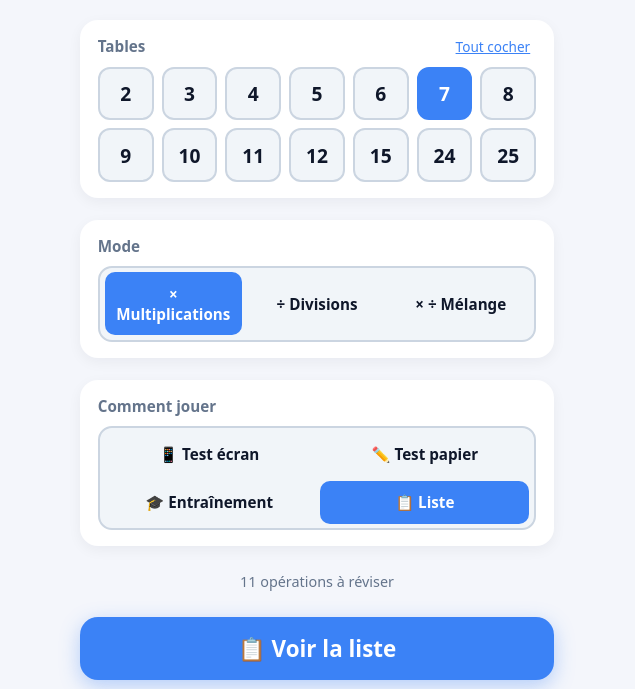
Test: App — exercise list flow › starting in list mode shows the list and records no session
(page scrolled)
Click the button "📋 Voir la liste" at (317, 648), box [80,616,554,680]
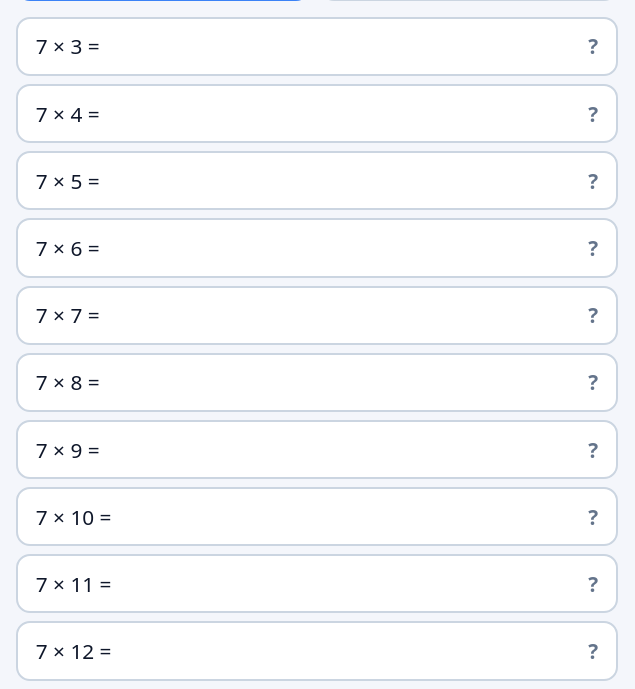
Check: the number of buttons named "montrer la réponse" is 11
